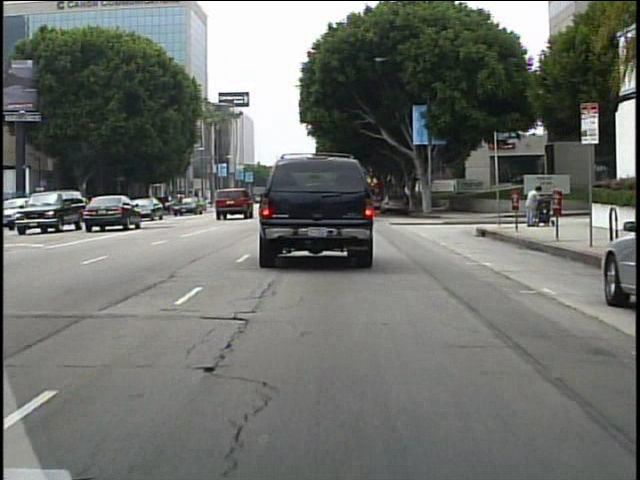person: (523, 179, 544, 231)
